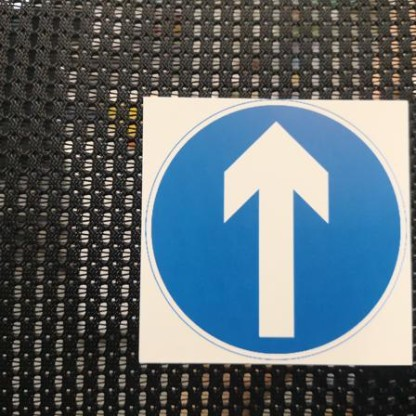forward: (144, 98, 407, 363)
